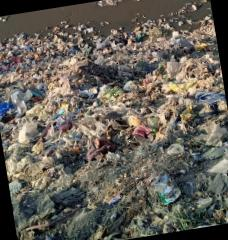general: (156, 178, 184, 206), (105, 194, 123, 206)
plastic: (205, 119, 228, 149), (16, 121, 40, 142), (132, 124, 150, 138)
